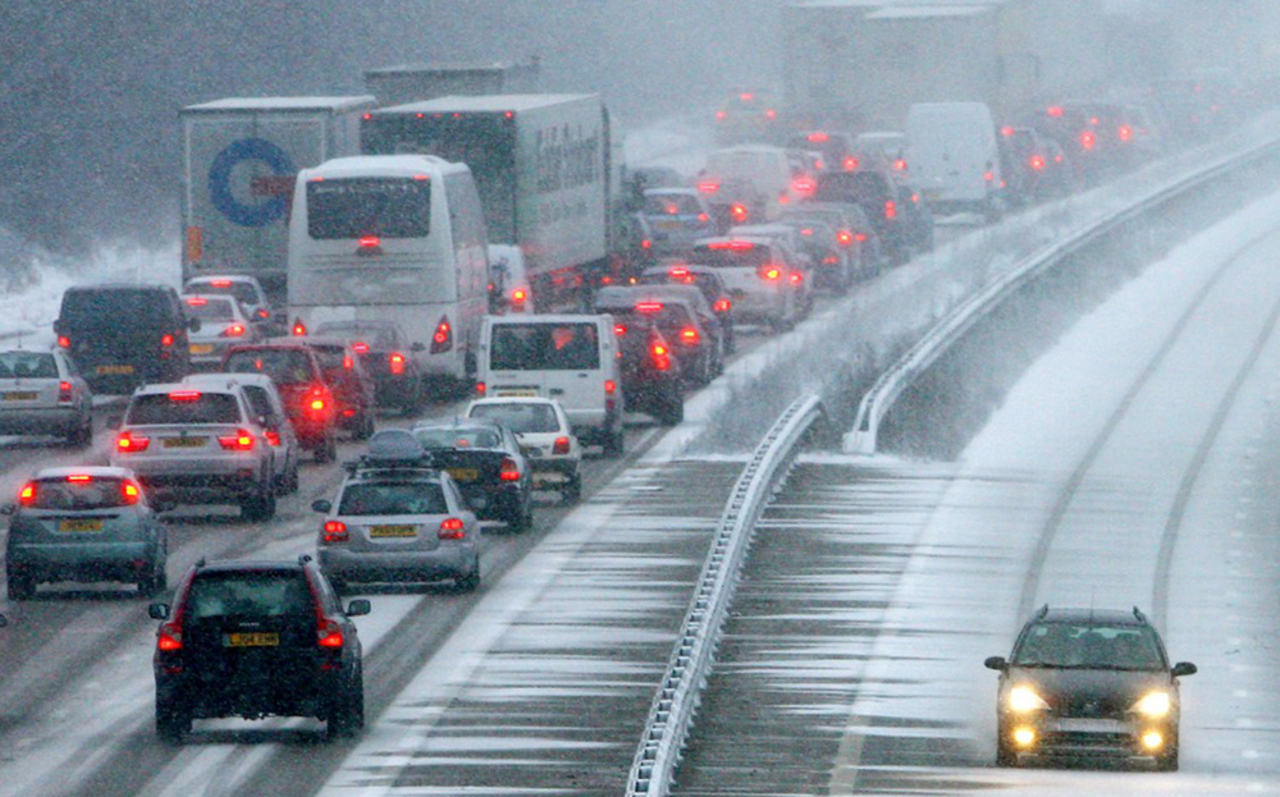bus: (286, 153, 488, 404)
car: (150, 553, 367, 746), (993, 606, 1187, 771), (108, 380, 288, 523), (2, 459, 161, 599), (313, 468, 484, 597), (481, 314, 619, 455), (56, 282, 188, 395), (227, 343, 343, 462), (462, 392, 582, 505), (420, 429, 532, 531), (906, 102, 1004, 216), (0, 344, 96, 450), (688, 239, 790, 324), (320, 320, 426, 398), (812, 177, 903, 260), (652, 269, 734, 354), (621, 295, 707, 375), (617, 321, 680, 420), (708, 145, 792, 209), (1146, 74, 1213, 144), (776, 220, 843, 287), (1039, 100, 1096, 176), (184, 295, 245, 357), (645, 188, 713, 242), (255, 377, 285, 491), (712, 88, 781, 137), (1078, 93, 1128, 157), (207, 273, 274, 319), (328, 339, 365, 422), (842, 130, 905, 178), (1010, 121, 1047, 195), (693, 180, 758, 222), (896, 187, 931, 250), (846, 197, 875, 264), (787, 128, 843, 162), (1120, 105, 1154, 152), (1038, 136, 1067, 190)
truck: (372, 97, 616, 288), (180, 90, 357, 296), (872, 10, 987, 175), (778, 9, 875, 148)
